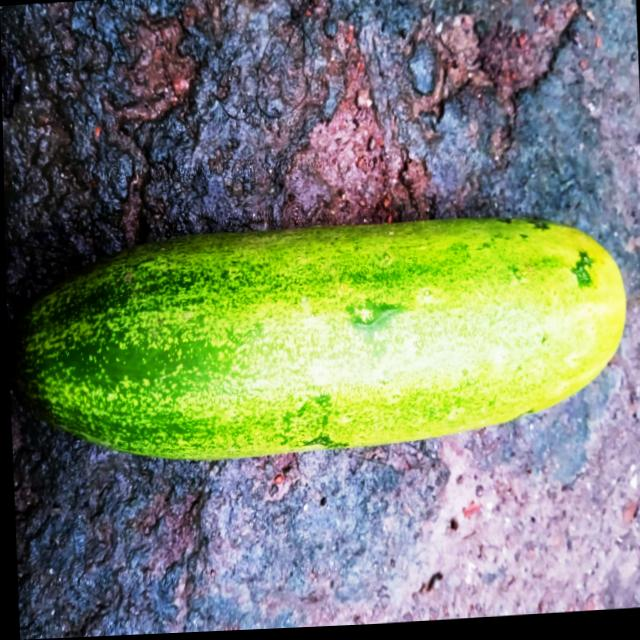Fresh-Cucumber: (4, 205, 630, 476)
